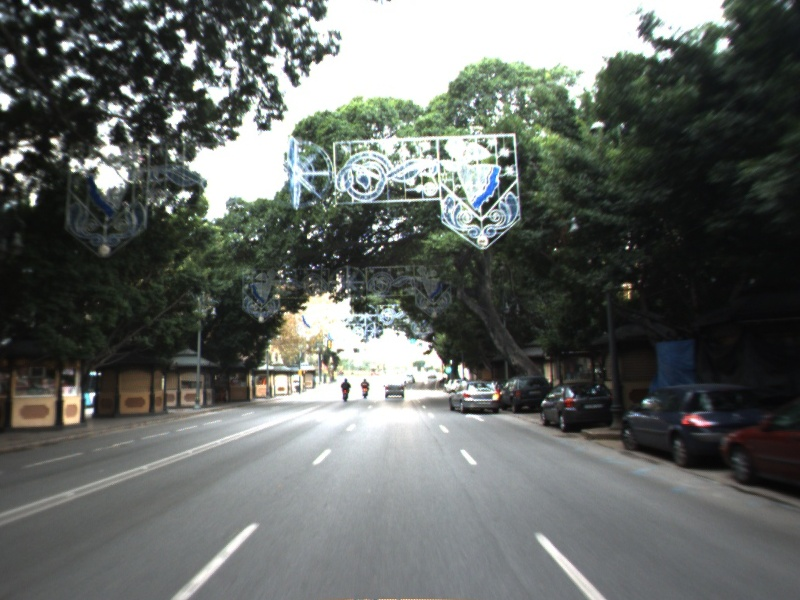STRAIGHT: (462, 410, 486, 423)
